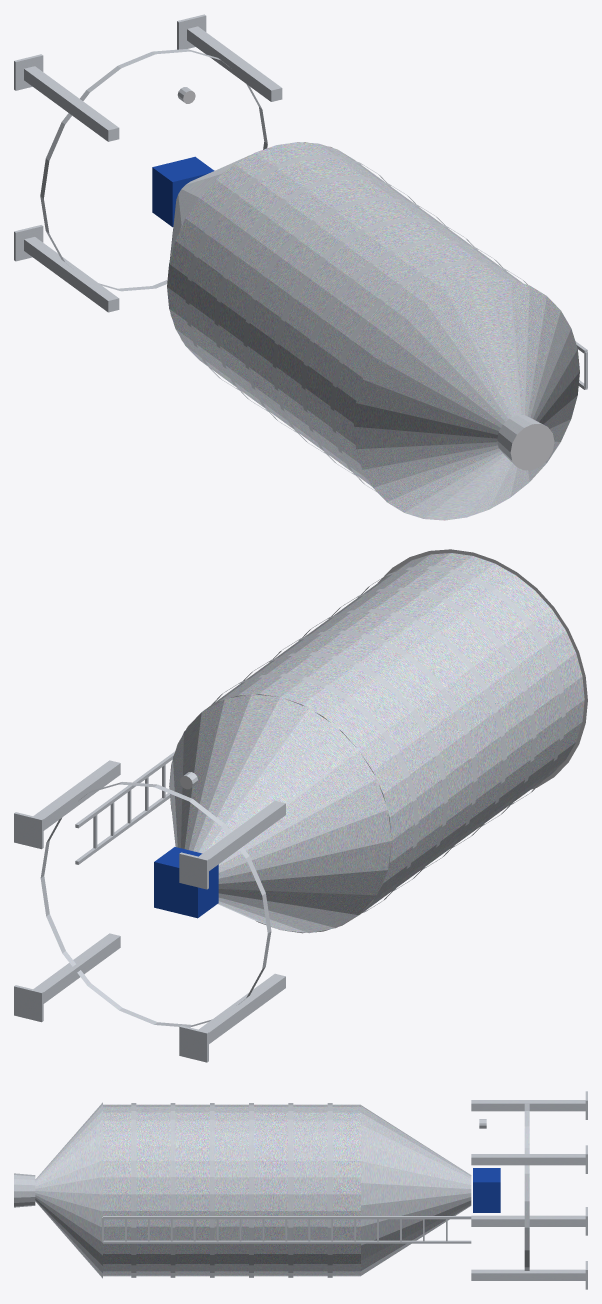
File: feed_silo.obj
3 views of the same model, one above another, from view 1: azimuth 30°, elevation 25°; view 2: azimuth 150°, elevation 25°; view 3: azimuth 270°, elevation 25° (orthographic). The views are drawn at different scales.
Bounding box in the file's own units: 2.98 × 2.88 × 9.35.
2 materials, 1 textured.
